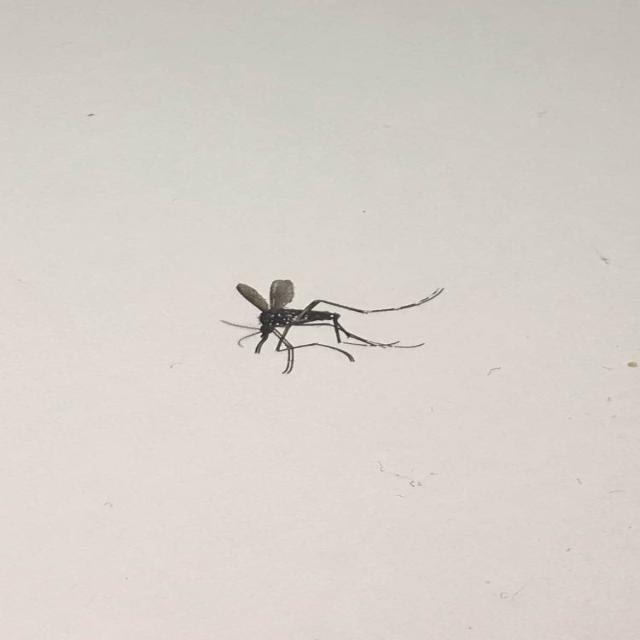albopictus: (212, 271, 440, 375)
